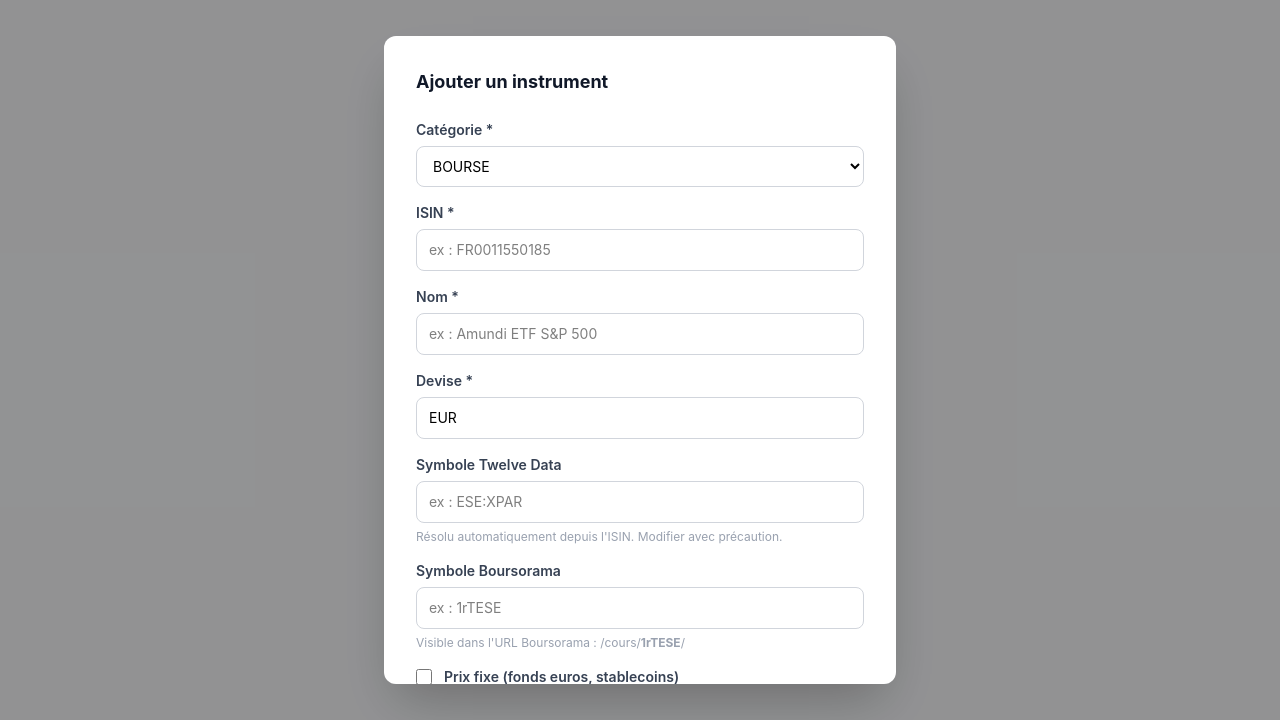
Test: AdminInstrumentForm › change les champs affichés au changement de catégorie vers CRYPTO
Expected: the text "ISIN *" is shown, [416,204,455,221]
Select "CRYPTO" in the dropdown at point(640, 166), box [416,146,864,187]
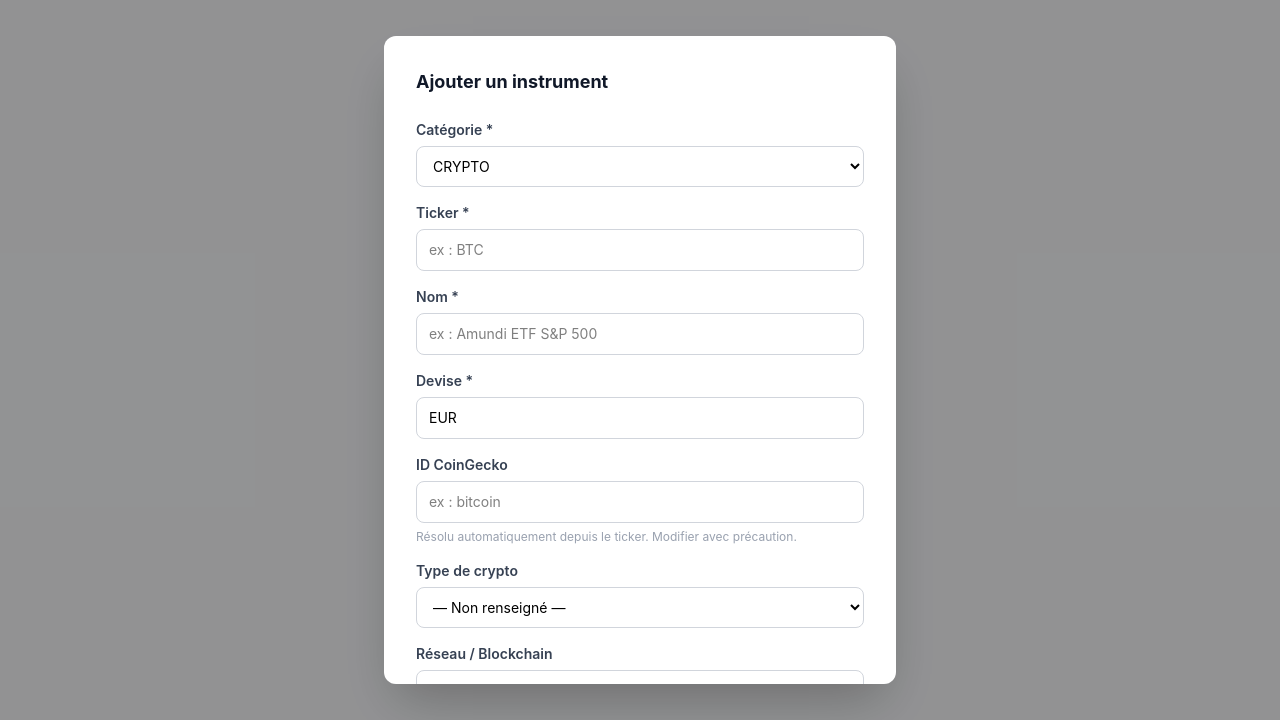
Now the text "ISIN *" is gone
Now the text "Ticker *" is shown, box [416,204,470,221]
